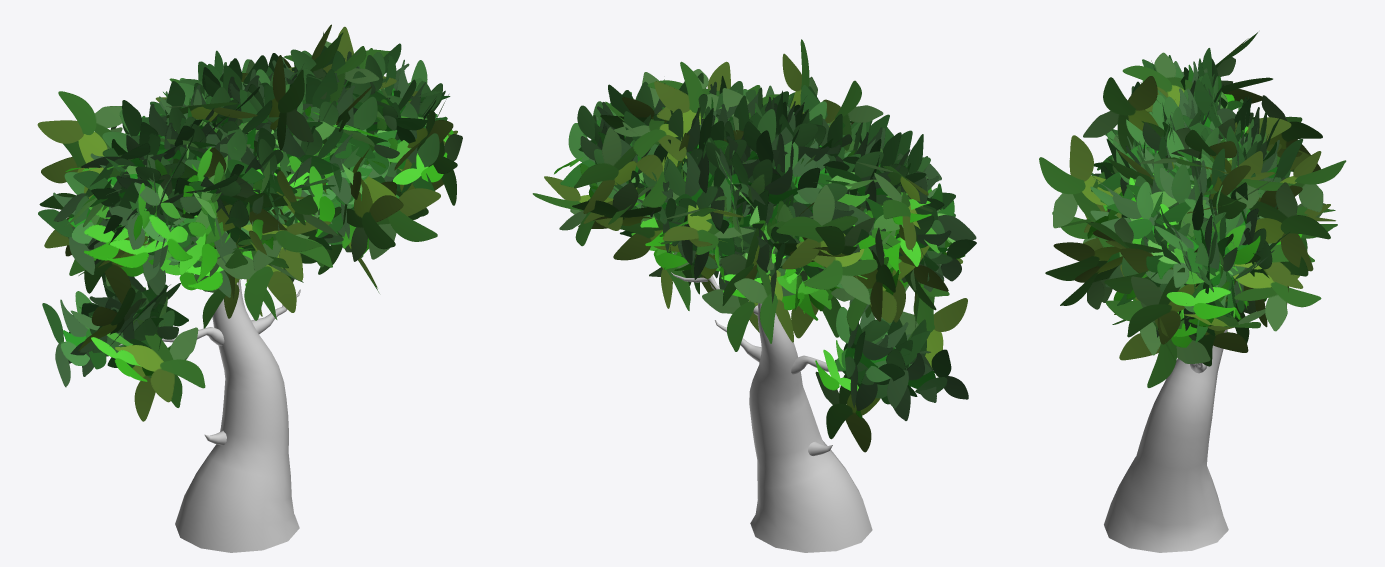
Rendered from pohon3.fbx.
3 views of the same model, side by side, from view 1: azimuth 30°, elevation 25°; view 2: azimuth 150°, elevation 25°; view 3: azimuth 270°, elevation 25° (orthographic). The views are drawn at different scales.
Parts seen in each view (by area): view 1: pohon baru.001; view 2: pohon baru.001; view 3: pohon baru.001.
Part boxes in pixels (x1,y1,x2,y2): pohon baru.001: (37,24,462,552); pohon baru.001: (532,39,976,552); pohon baru.001: (1039,32,1346,552).
Bounding box in the file's own units: 551 × 570 × 374.
